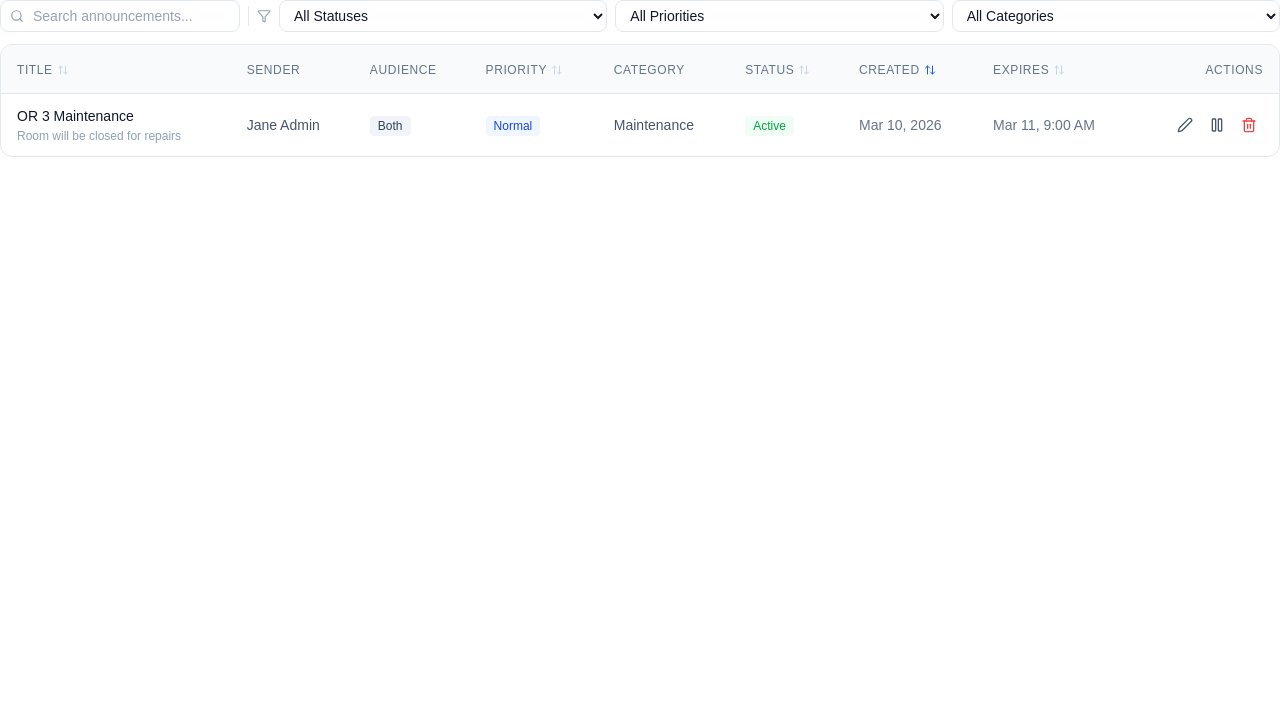
AnnouncementHistoryTable › row actions › shows confirm dialog when deactivate clicked
Click the button named "Deactivate announcement".
click(1217, 125)  # box left=1203, top=111, right=1231, bottom=139
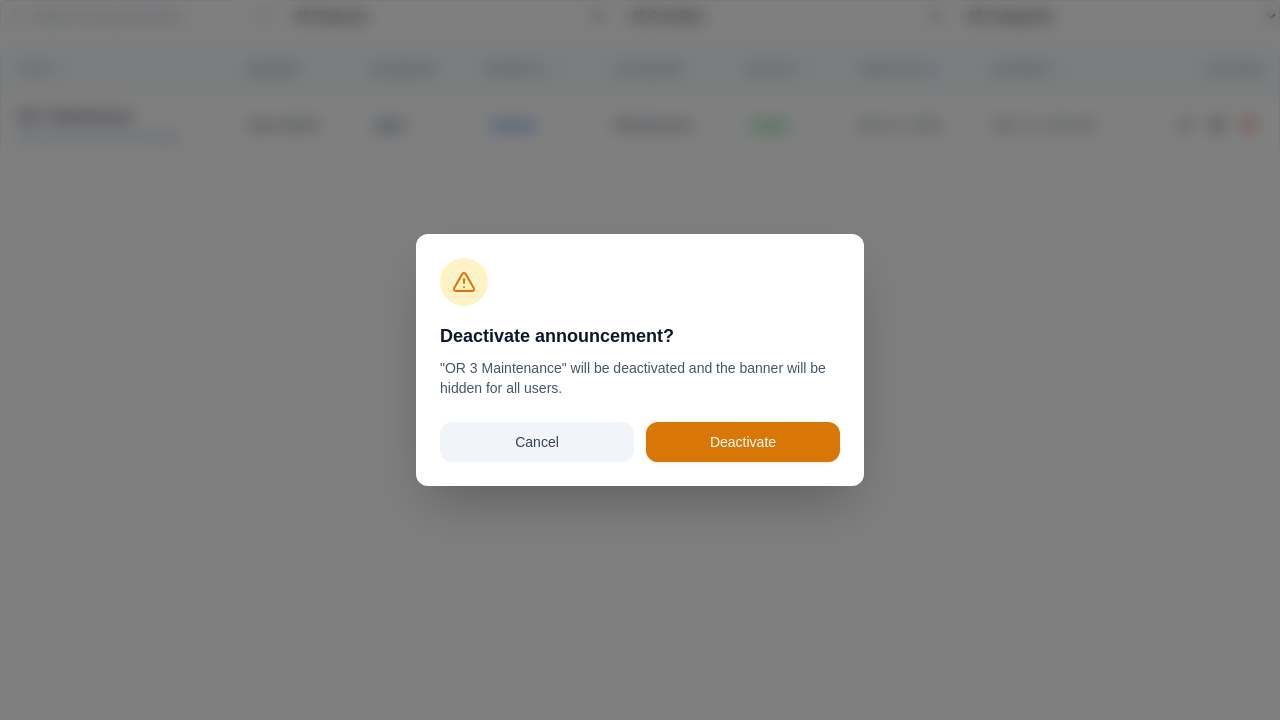
expect the heading "Deactivate announcement?" is shown: met, box left=440, top=326, right=674, bottom=346
